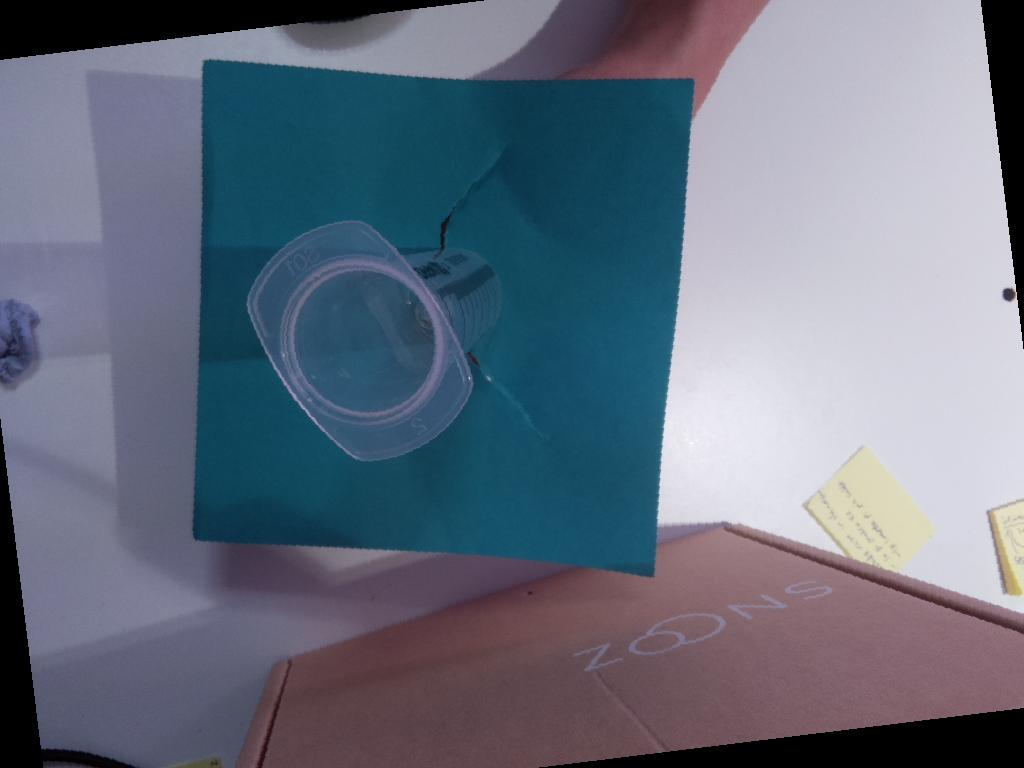clean: (236, 215, 483, 468)
